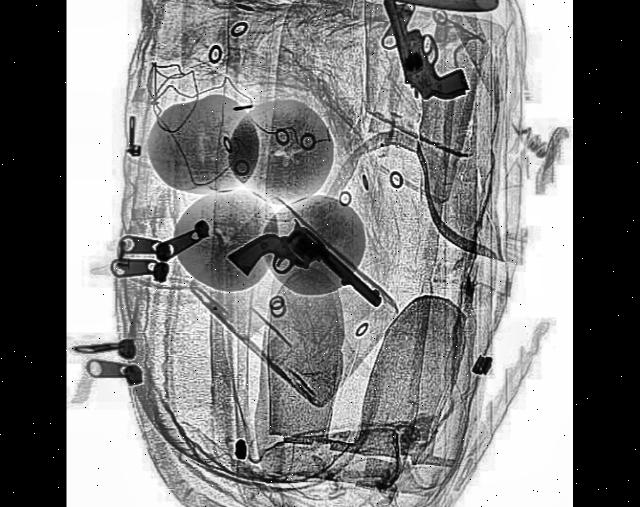Gun: (227, 182, 382, 366), (378, 0, 469, 120)
Knife: (174, 0, 498, 15)
